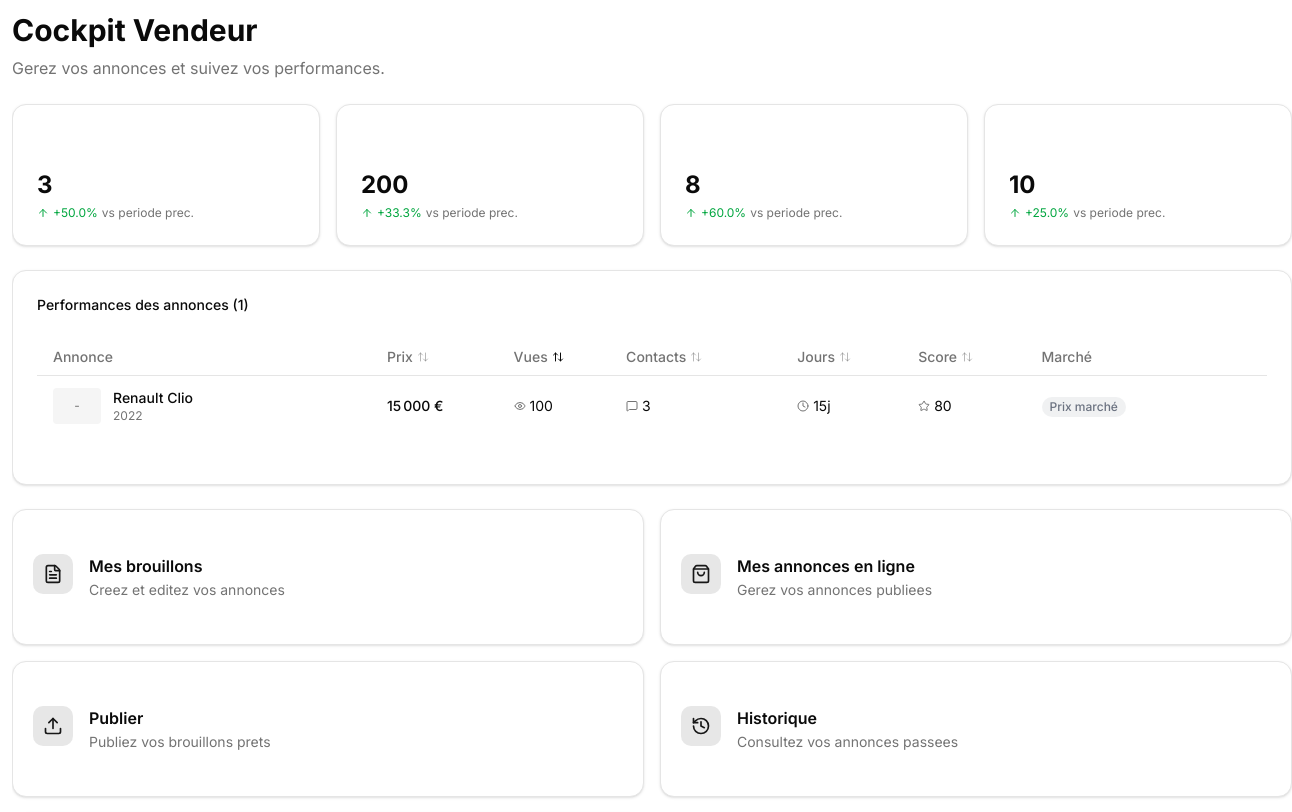
Test: SellerCockpitPage › shows market position detail when market badge is clicked
Check: the element with test id "seller-listings-table" is shown, box [12,270,1291,485]
Click the button with test id "market-badge-listing-1": (1084, 406) [1042,396,1126,416]
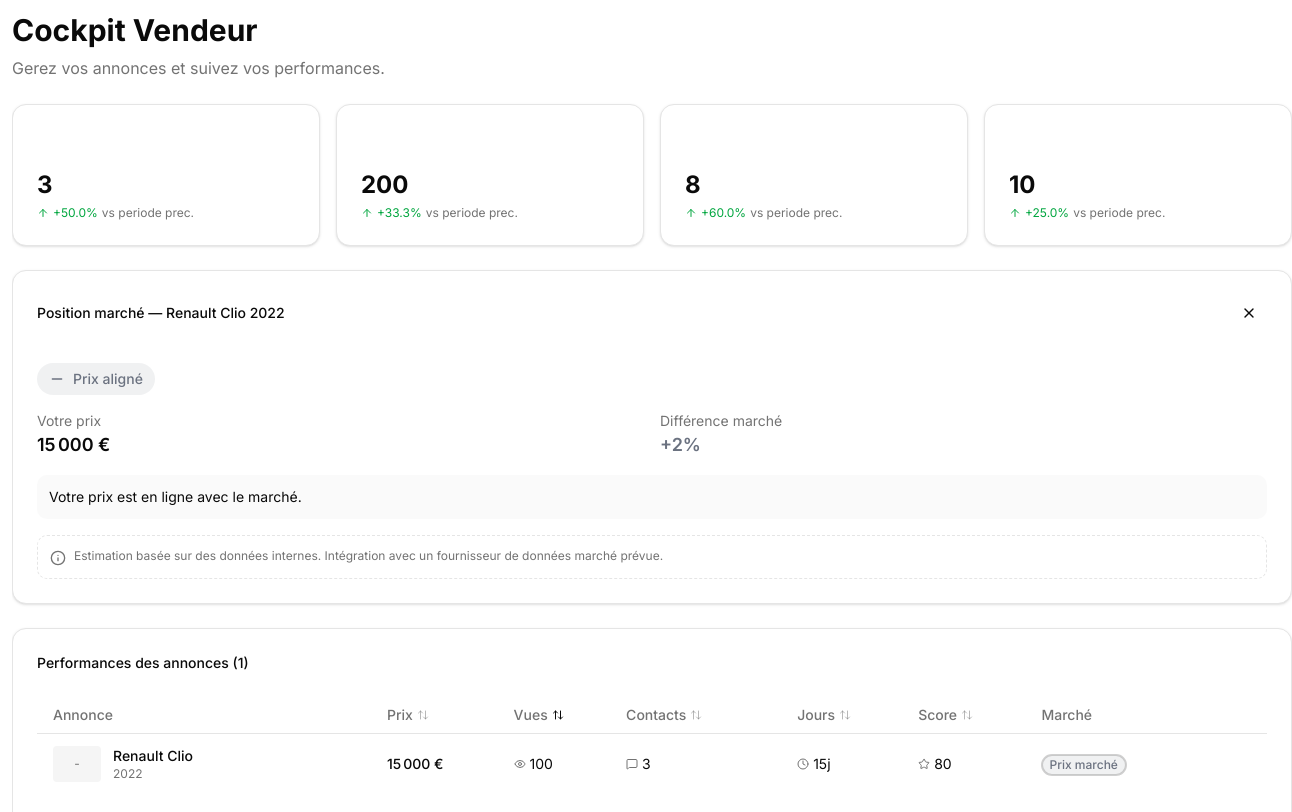
Check: the element with test id "market-position-detail" is shown, box [12,270,1291,604]
